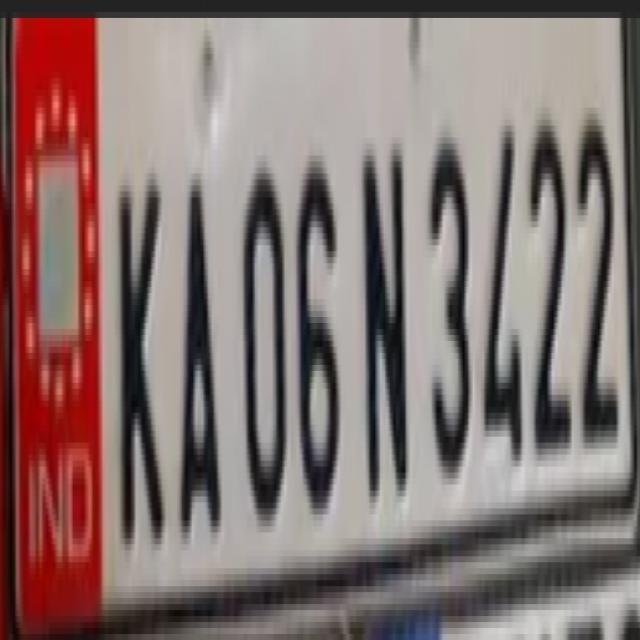0: (238, 154, 288, 574)
3: (426, 130, 476, 520)
4: (480, 98, 527, 508)
6: (294, 154, 344, 568)
A: (179, 157, 221, 584)
K: (114, 167, 168, 591)
N: (362, 120, 414, 543)
